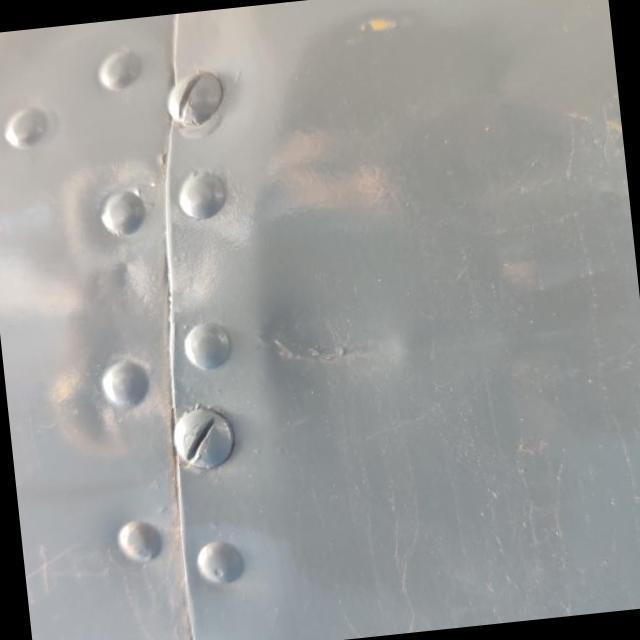Dent: (240, 278, 424, 408)
